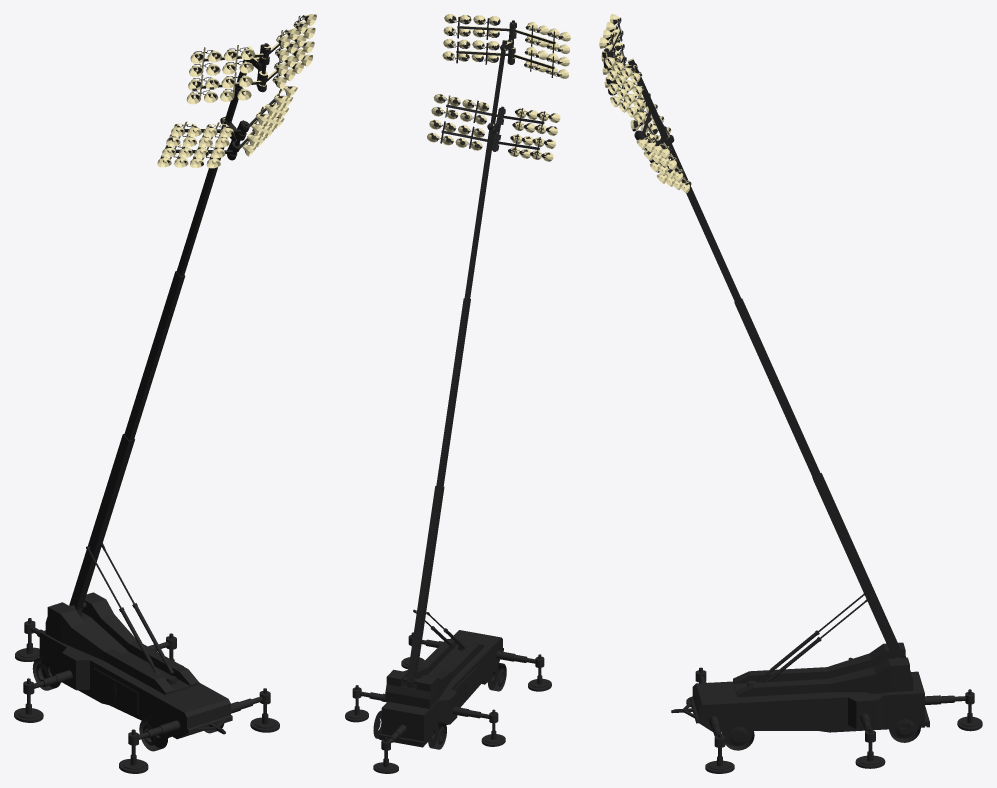
The model's file is light_tower_0.obj.
3 renders of one model, left to right at view 1: azimuth 30°, elevation 25°; view 2: azimuth 150°, elevation 25°; view 3: azimuth 270°, elevation 25°, orthographic. The views are drawn at different scales.
Visible parts, largest first — view 1: light_tower; view 2: light_tower; view 3: light_tower.
Part boxes in pixels (x1,y1,x2,y2): light_tower: (14,14,316,773); light_tower: (345,14,570,773); light_tower: (599,14,982,773).
Bounding box in the file's own units: 1.47 × 5.53 × 2.74.
Materials: 1 (1 with a texture image).
